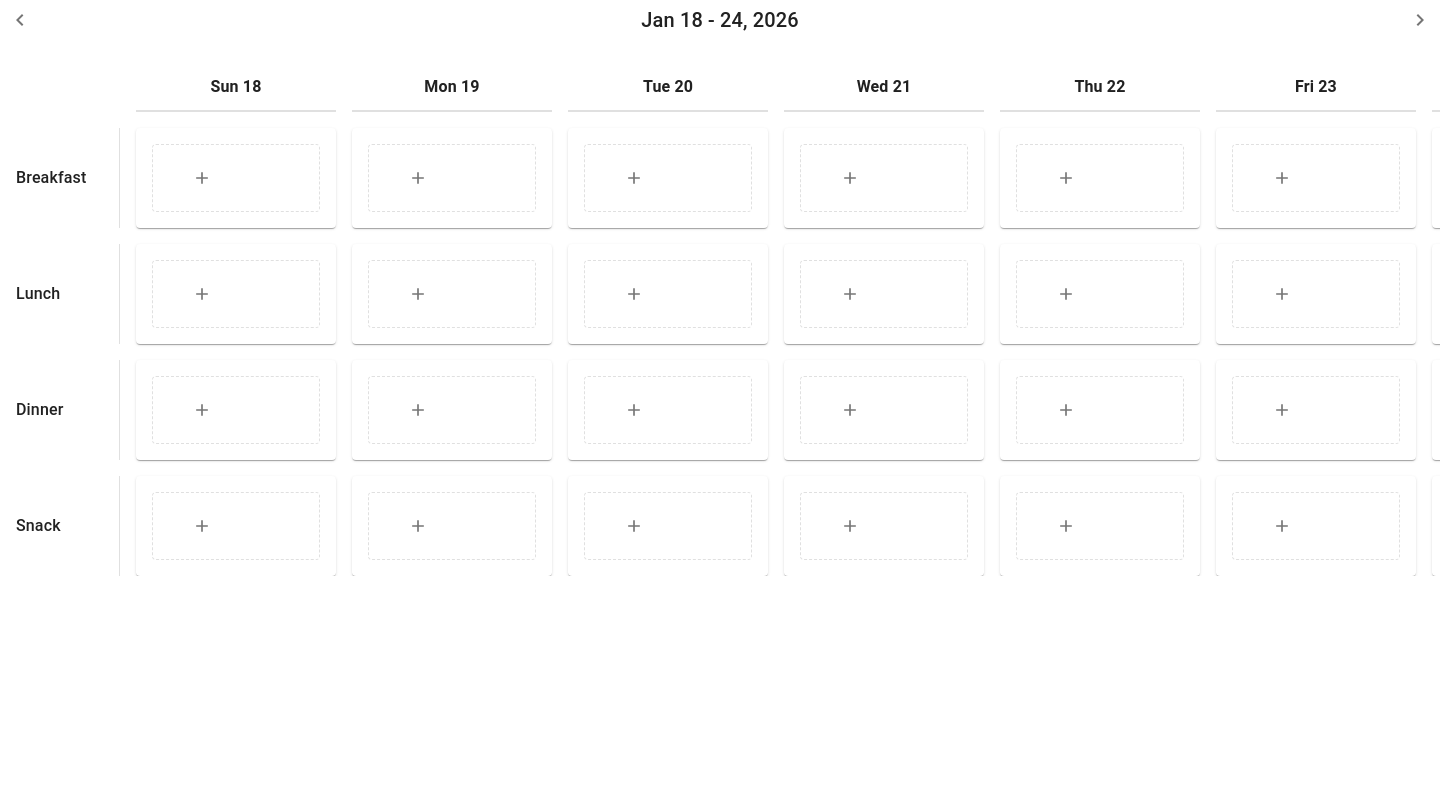
Test case: CalendarWeekView › should open add dialog when Add meal button clicked
What coordinates should you click on to do the following:
click the 1st button named "add meal"
I would click on:
 (236, 178)
Its box is [152, 144, 320, 212].
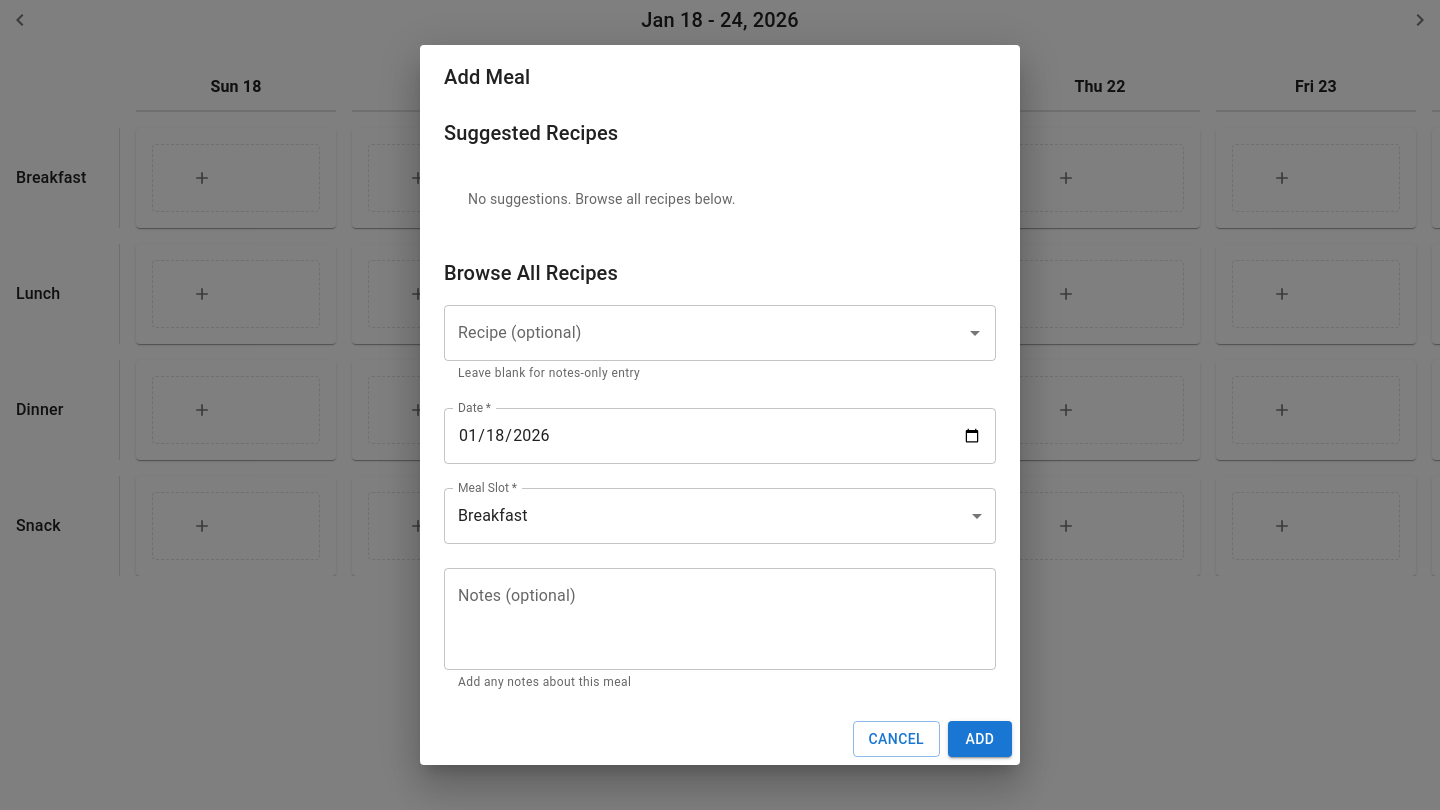
Check: the heading "Add Meal" is shown, box [444, 65, 530, 89]
